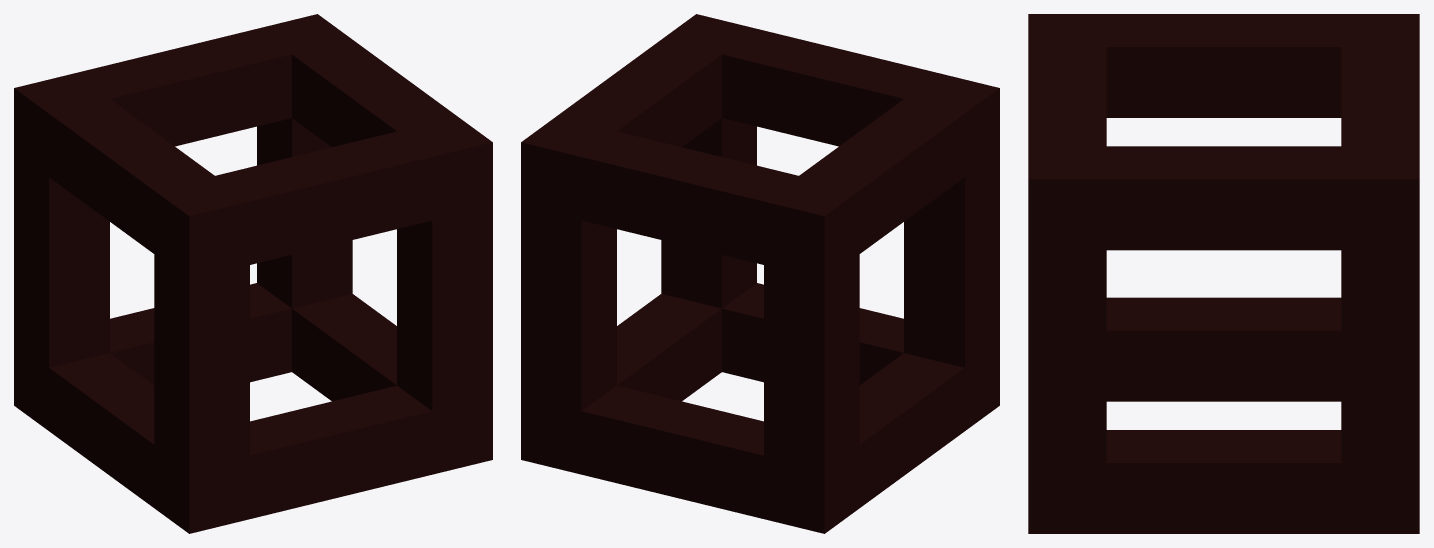
The model's file is totem1.glb.
3 renders of one model, left to right at view 1: azimuth 30°, elevation 25°; view 2: azimuth 150°, elevation 25°; view 3: azimuth 270°, elevation 25°, orthographic. The views are drawn at different scales.
Visible parts, largest first — view 1: imagetostl_mesh2, imagetostl_mesh0, imagetostl_mesh5, imagetostl_mesh23, imagetostl_mesh18, imagetostl_mesh6, imagetostl_mesh29, imagetostl_mesh17, imagetostl_mesh27, imagetostl_mesh20, imagetostl_mesh9, imagetostl_mesh10 (+3 smaller); view 2: imagetostl_mesh4, imagetostl_mesh0, imagetostl_mesh5, imagetostl_mesh21, imagetostl_mesh16, imagetostl_mesh13, imagetostl_mesh14, imagetostl_mesh17, imagetostl_mesh27, imagetostl_mesh20, imagetostl_mesh9, imagetostl_mesh12 (+3 smaller); view 3: imagetostl_mesh1, imagetostl_mesh5, imagetostl_mesh25, imagetostl_mesh15, imagetostl_mesh20, imagetostl_mesh9.
Part boxes in pixels (bbox=[...]): imagetostl_mesh2: bbox=[189, 142, 492, 533]; imagetostl_mesh0: bbox=[14, 88, 189, 533]; imagetostl_mesh5: bbox=[14, 14, 492, 216]; imagetostl_mesh23: bbox=[49, 177, 109, 367]; imagetostl_mesh18: bbox=[110, 54, 291, 146]; imagetostl_mesh6: bbox=[397, 220, 432, 410]; imagetostl_mesh29: bbox=[250, 385, 431, 455]; imagetostl_mesh17: bbox=[292, 55, 396, 147]; imagetostl_mesh27: bbox=[292, 309, 396, 401]; imagetostl_mesh20: bbox=[49, 353, 154, 444]; imagetostl_mesh9: bbox=[292, 294, 396, 384]; imagetostl_mesh10: bbox=[292, 118, 352, 308]; imagetostl_mesh4: bbox=[521, 142, 824, 533]; imagetostl_mesh0: bbox=[824, 88, 999, 533]; imagetostl_mesh5: bbox=[521, 14, 999, 216]; imagetostl_mesh21: bbox=[904, 177, 964, 367]; imagetostl_mesh16: bbox=[722, 54, 903, 146]; imagetostl_mesh13: bbox=[581, 220, 616, 410]; imagetostl_mesh14: bbox=[582, 385, 763, 455]; imagetostl_mesh17: bbox=[617, 55, 721, 147]; imagetostl_mesh27: bbox=[617, 309, 721, 401]; imagetostl_mesh20: bbox=[859, 353, 964, 444]; imagetostl_mesh9: bbox=[617, 294, 721, 384]; imagetostl_mesh12: bbox=[661, 118, 721, 308]; imagetostl_mesh1: bbox=[1028, 179, 1419, 533]; imagetostl_mesh5: bbox=[1028, 14, 1419, 179]; imagetostl_mesh25: bbox=[1106, 330, 1341, 401]; imagetostl_mesh15: bbox=[1106, 47, 1341, 117]; imagetostl_mesh20: bbox=[1106, 297, 1341, 330]; imagetostl_mesh9: bbox=[1106, 430, 1341, 462].
Bounding box in the file's own units: 0.7874 × 0.7874 × 0.7874.
